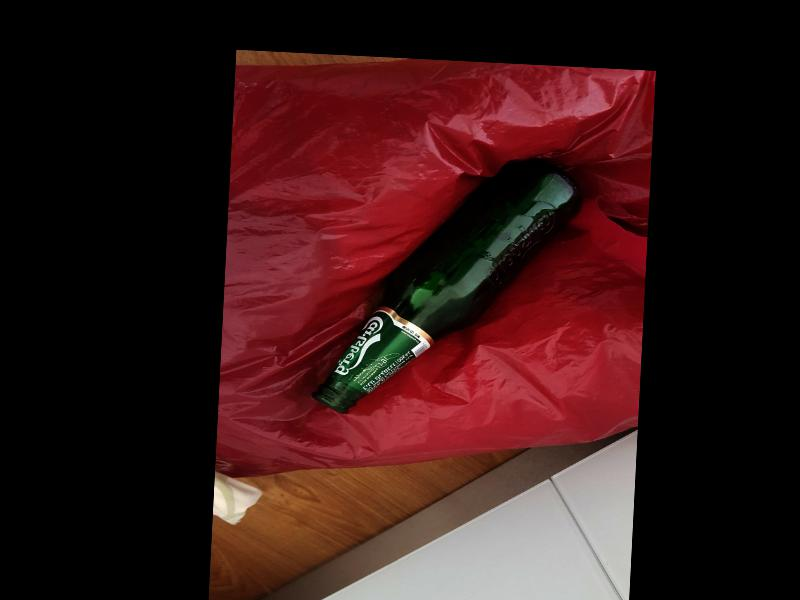Beer: (310, 149, 580, 424)
